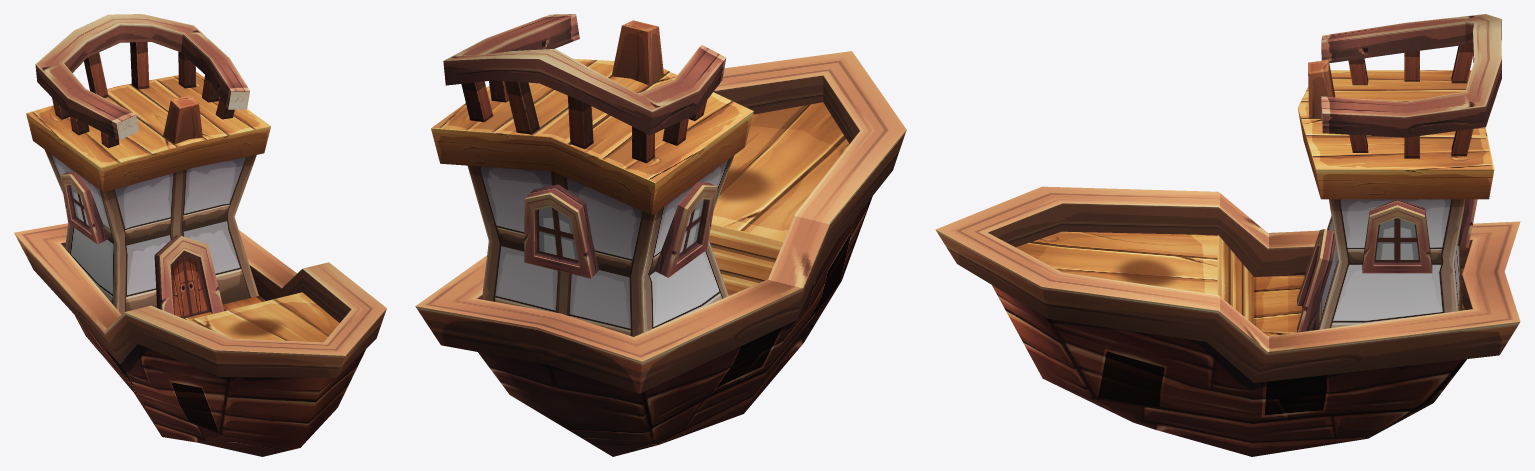
Rendered from medium_hull.glb.
The picture shows the model from 3 angles, left to right: view 1: azimuth 30°, elevation 25°; view 2: azimuth 150°, elevation 25°; view 3: azimuth 270°, elevation 25°; orthographic projection. The views are drawn at different scales.
Visible parts, largest first — view 1: pirate_boat_04; view 2: pirate_boat_04; view 3: pirate_boat_04.
Part boxes in pixels (x1,y1,x2,y2): pirate_boat_04: [14, 14, 386, 456]; pirate_boat_04: [415, 14, 906, 456]; pirate_boat_04: [935, 14, 1520, 456].
Bounding box in the file's own units: 3.72 × 6.1 × 7.72.
1 material, 1 textured.
